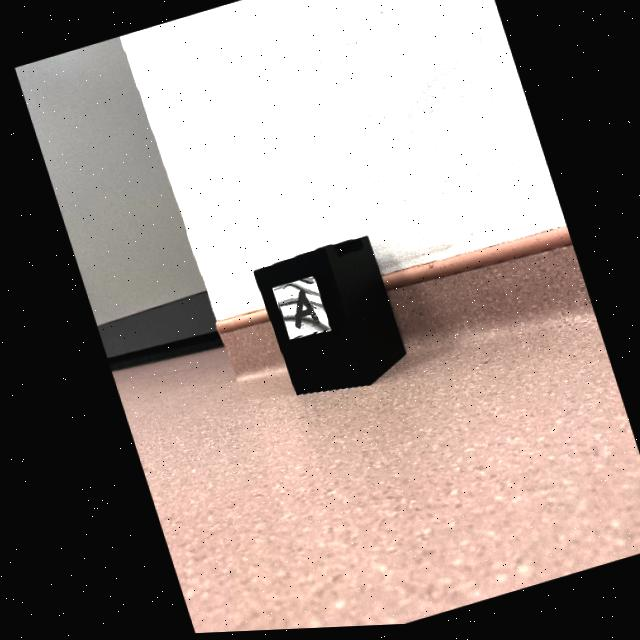A: (290, 292, 315, 331)
